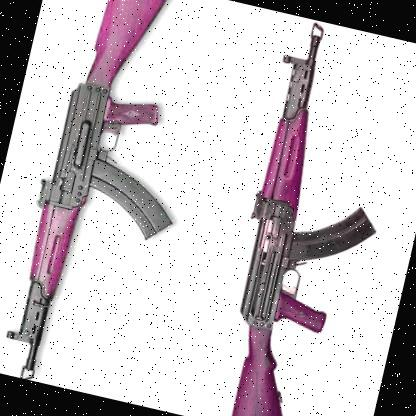rifle: (171, 11, 416, 416), (0, 0, 211, 401)
